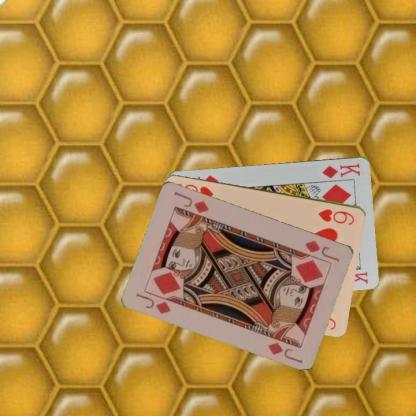6h: (315, 206, 356, 226)
Jd: (302, 236, 342, 264), (134, 290, 174, 316)
Kd: (320, 160, 362, 179)
